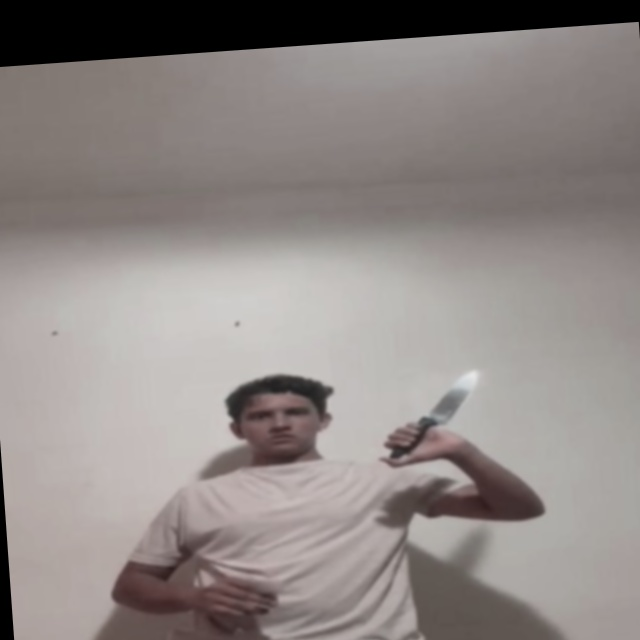Sharp-Object: (425, 371, 484, 420)
